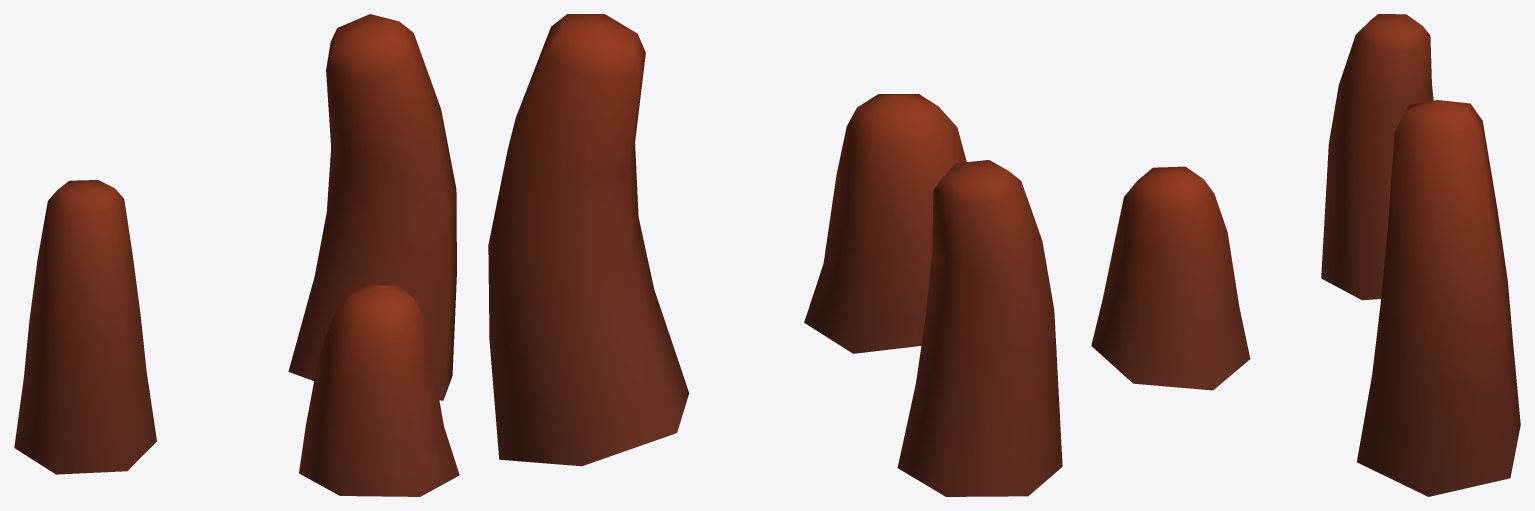
Rendered from inferno-grass-001.glb.
3 views of the same model, side by side, from view 1: azimuth 30°, elevation 25°; view 2: azimuth 150°, elevation 25°; view 3: azimuth 270°, elevation 25° (orthographic). The views are drawn at different scales.
Visible parts, largest first — view 1: Grass_001; view 2: Grass_001; view 3: Grass_001.
Boxes of the visible parts, <box> form: Grass_001: <box>14,14,459,496</box>; Grass_001: <box>488,14,1062,496</box>; Grass_001: <box>1091,14,1520,496</box>.
Bounding box in the file's own units: 0.9413 × 0.7286 × 0.7918.
Materials: 1 (1 with a texture image).
